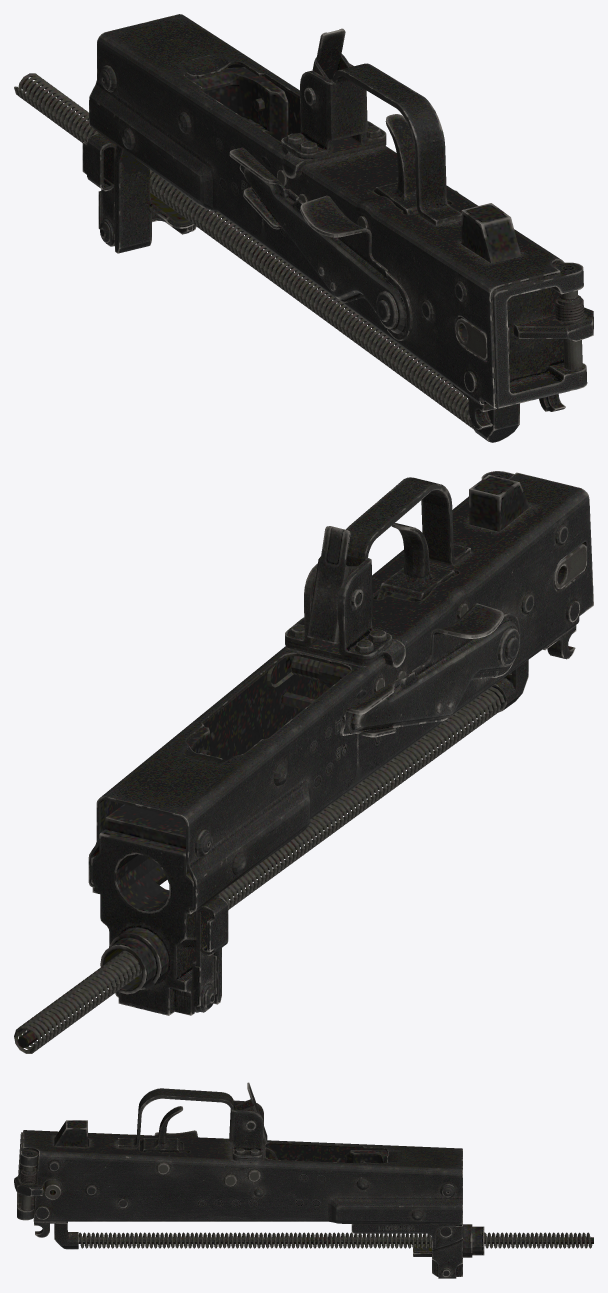
The picture shows the model from 3 angles, top to bottom: view 1: azimuth 30°, elevation 25°; view 2: azimuth 150°, elevation 25°; view 3: azimuth 270°, elevation 25°; orthographic projection. The views are drawn at different scales.
Visible parts, largest first — view 1: TW_5beed0f50db834001c062b12_PZ_Import; view 2: TW_5beed0f50db834001c062b12_PZ_Import; view 3: TW_5beed0f50db834001c062b12_PZ_Import.
Boxes of the visible parts, <box> form: TW_5beed0f50db834001c062b12_PZ_Import: <box>14,14,593,442</box>; TW_5beed0f50db834001c062b12_PZ_Import: <box>14,471,593,1053</box>; TW_5beed0f50db834001c062b12_PZ_Import: <box>14,1082,593,1278</box>.
Bounding box in the file's own units: 0.0331 × 0.196 × 0.0697.
Materials: 1 (1 with a texture image).
